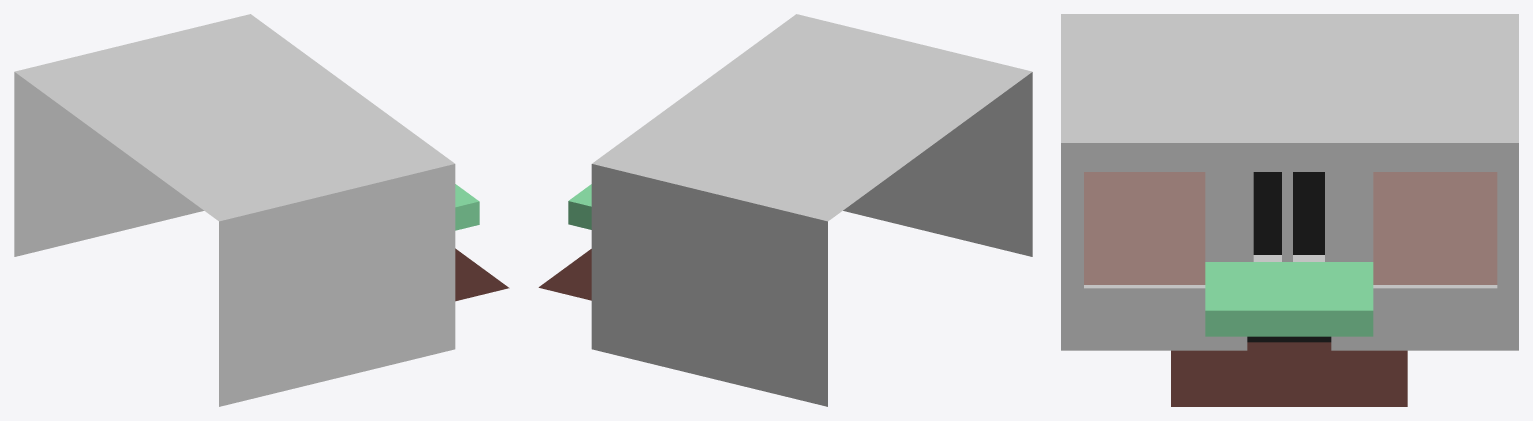
Rendered from Edificio-3.fbx.
3 views of the same model, side by side, from view 1: azimuth 30°, elevation 25°; view 2: azimuth 150°, elevation 25°; view 3: azimuth 270°, elevation 25° (orthographic). The views are drawn at different scales.
Visible parts, largest first — view 1: Plane; view 2: Plane; view 3: Plane.
Boxes of the visible parts, bbox=[...] form: Plane: bbox=[14, 14, 509, 406]; Plane: bbox=[538, 14, 1032, 406]; Plane: bbox=[1061, 14, 1518, 406].
Size of the model in its own units: 1150 by 600 by 1200.
